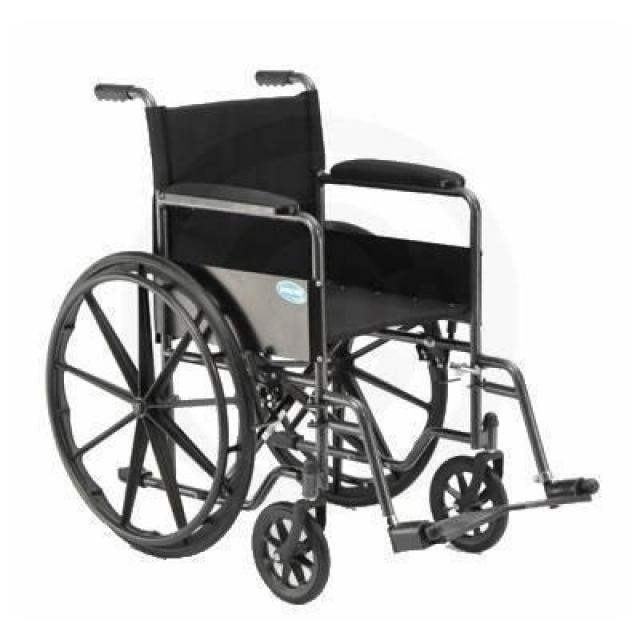wheelchair: (35, 64, 608, 612)
